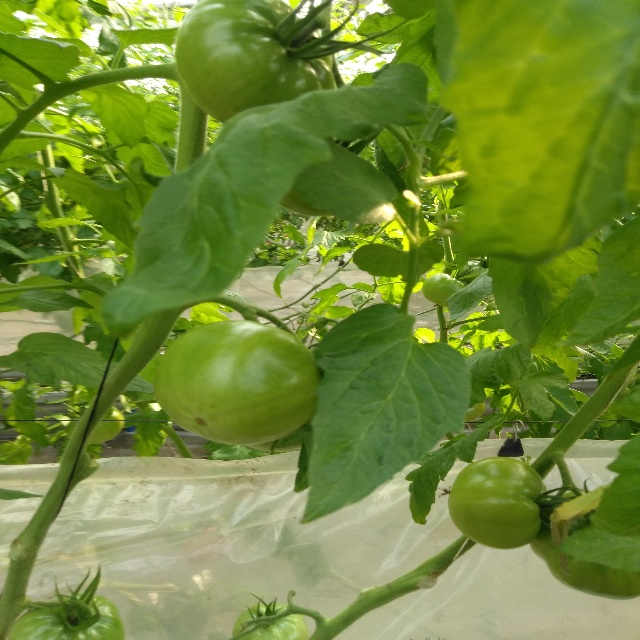b_green: (154, 319, 322, 447), (175, 0, 338, 124), (446, 456, 549, 548), (5, 594, 125, 640), (231, 602, 309, 640), (421, 273, 471, 307)
